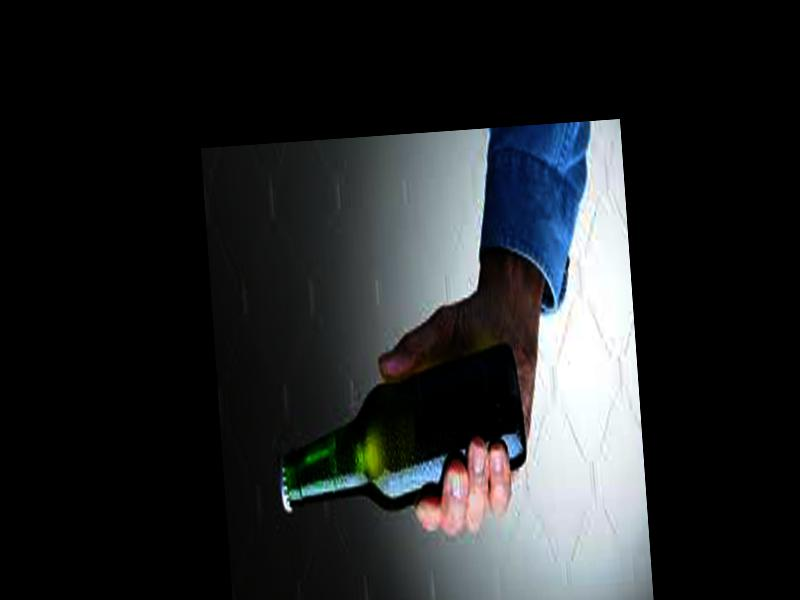Beer: (267, 340, 530, 516)
